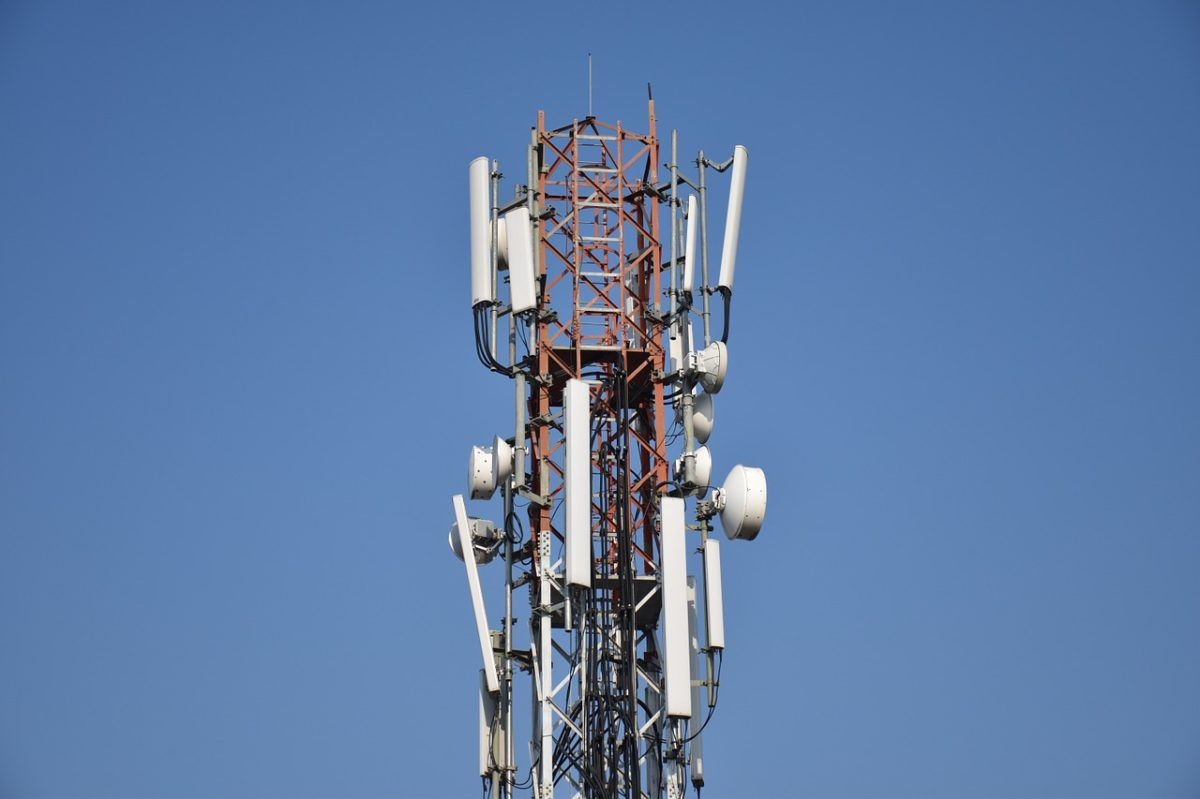a: (446, 492, 510, 699), (556, 374, 609, 597), (659, 492, 697, 731), (713, 140, 757, 300), (463, 152, 501, 315), (500, 207, 546, 314), (699, 534, 733, 660), (677, 184, 701, 303)
b: (721, 459, 768, 544), (680, 381, 723, 446), (690, 334, 733, 392), (464, 442, 495, 498), (486, 434, 520, 481)
